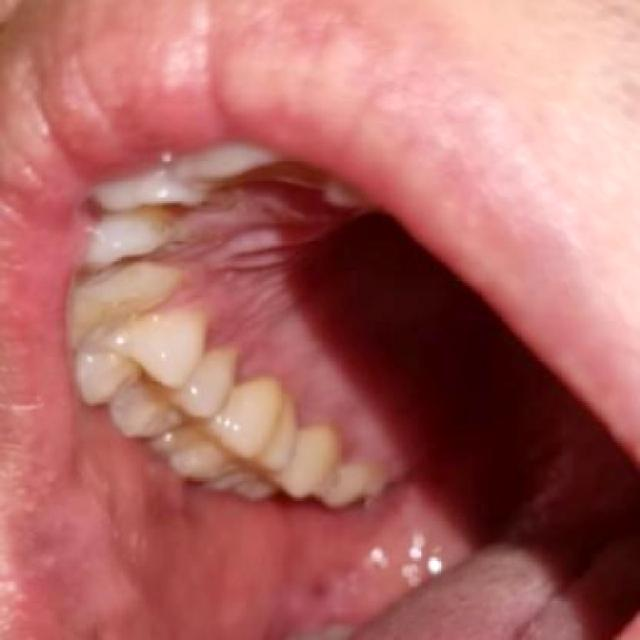Plaque: (148, 229, 188, 256)
